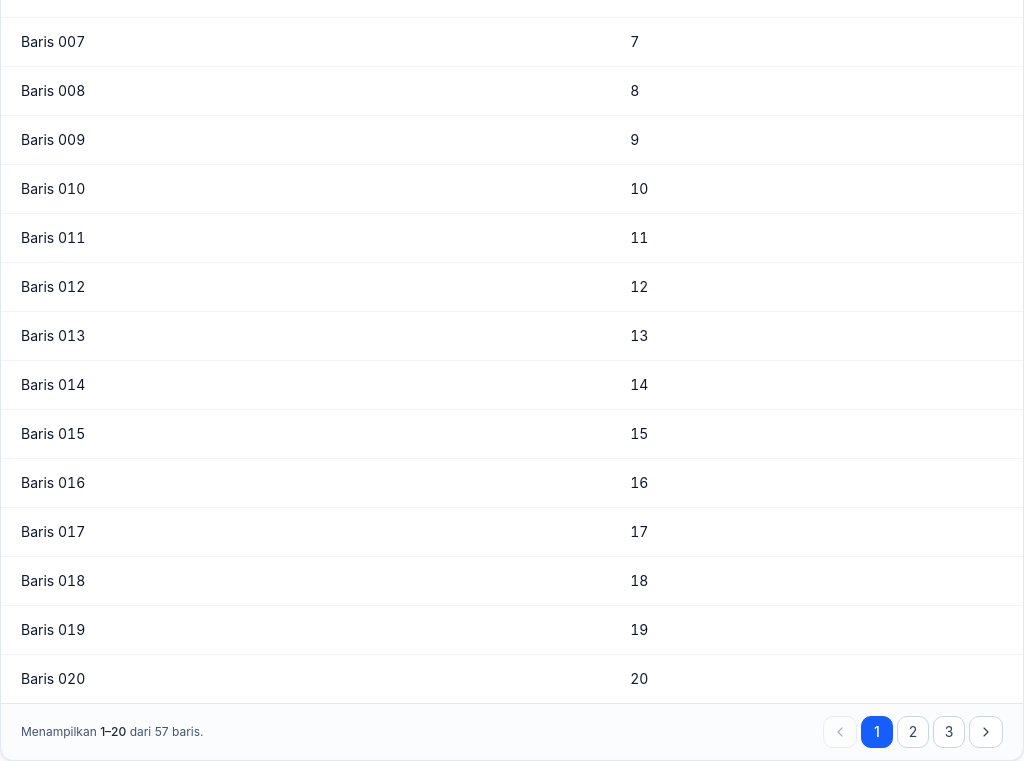
Test case: paginasi › menggambar sisa baris pada halaman terakhir
(page scrolled)
Click the button named "Halaman 3": click(949, 732) x1=933 y1=716 x2=965 y2=748
(page scrolled)
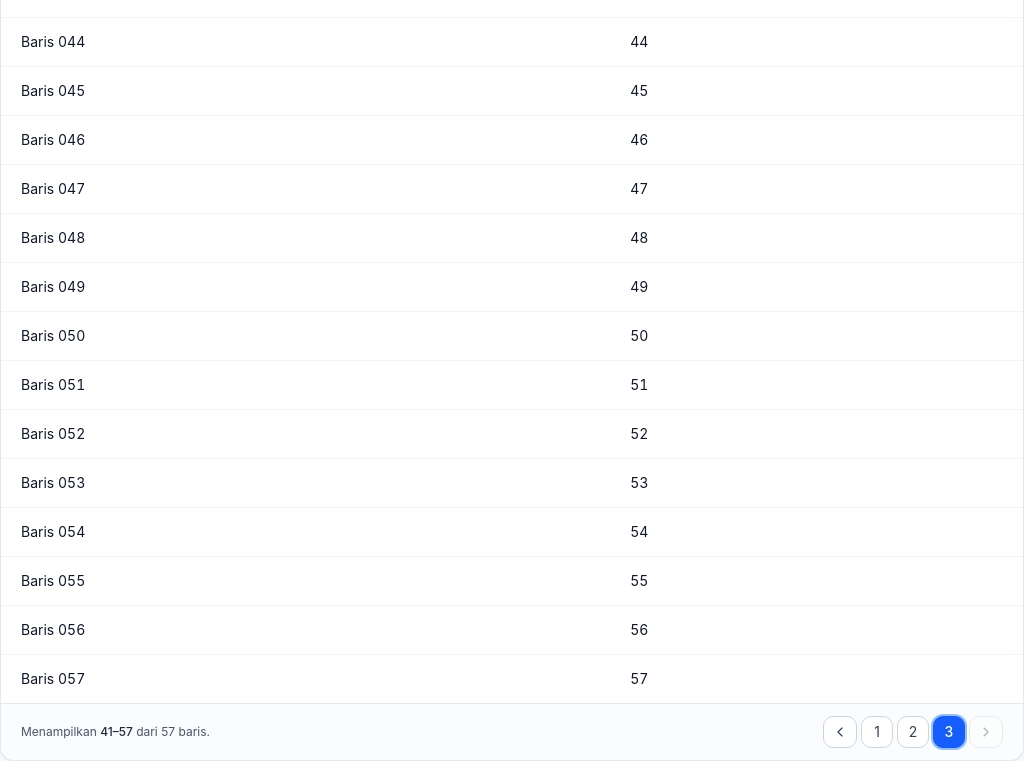
Result: the text "Baris 057" is shown at x1=21 y1=670 x2=85 y2=687
Result: the text "41–57" is shown at x1=100 y1=724 x2=133 y2=739
